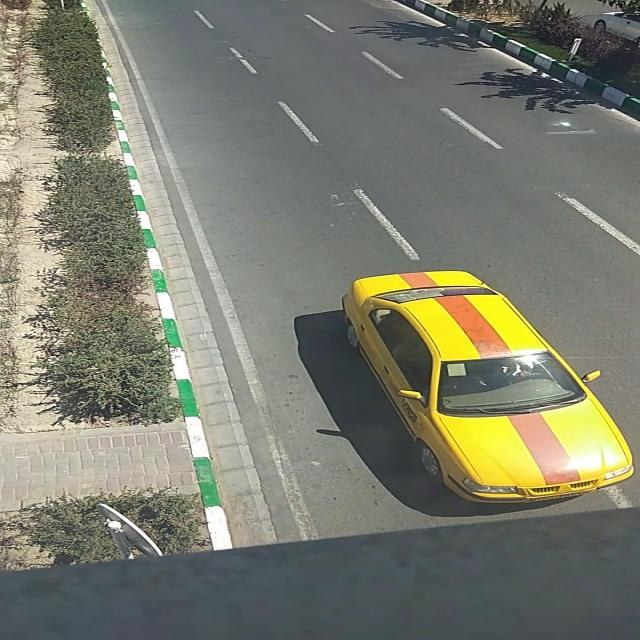car: (337, 270, 635, 504), (597, 11, 640, 41)
